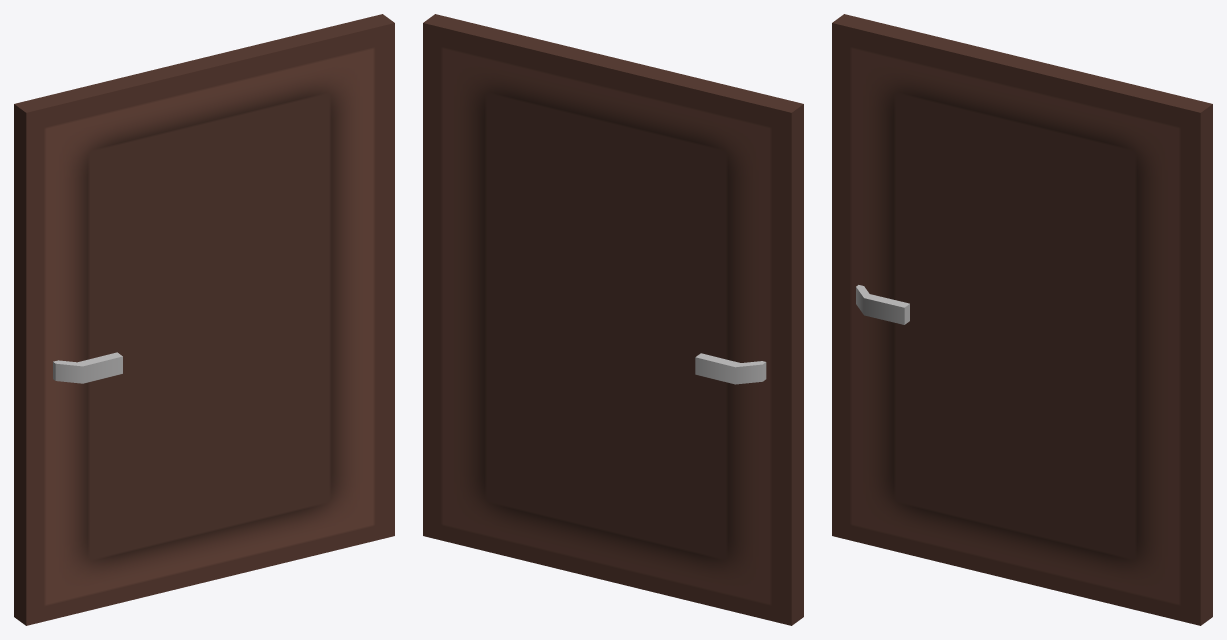
File: Door1.fbx
3 renders of one model, left to right at view 1: azimuth 30°, elevation 25°; view 2: azimuth 150°, elevation 25°; view 3: azimuth 330°, elevation 25°, orthographic.
Parts seen in each view (by area): view 1: Door1; view 2: Door1; view 3: Door1.
Boxes of the visible parts, x1,y1,x2,y2 form: Door1: (14, 14, 394, 625); Door1: (423, 14, 803, 625); Door1: (832, 14, 1212, 625).
Bounding box in the file's own units: 151 × 201 × 26.7.
